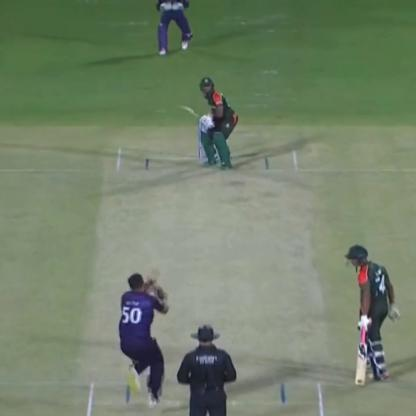bat: (166, 100, 216, 135)
pitch: (77, 142, 337, 415)
